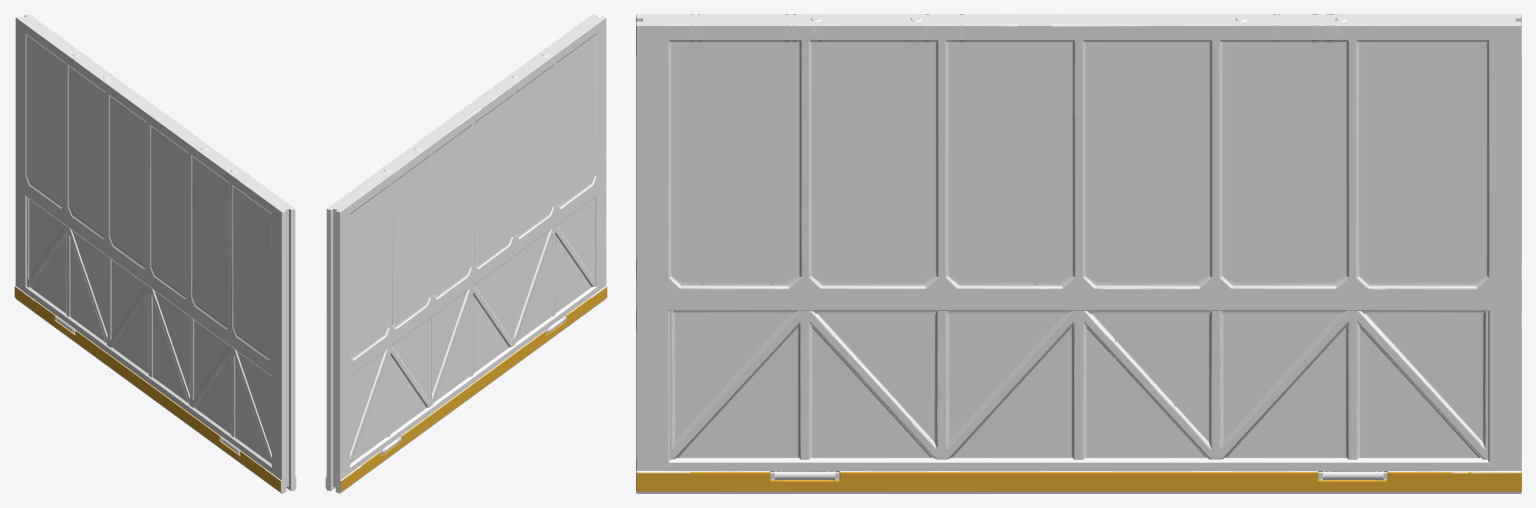
3 renders of one model, left to right at view 1: azimuth 30°, elevation 25°; view 2: azimuth 150°, elevation 25°; view 3: azimuth 270°, elevation 25°, orthographic. The views are drawn at different scales.
Visible parts, largest first — view 1: SM_H_Customiz_SlidingDoor_01C; view 2: SM_H_Customiz_SlidingDoor_01C; view 3: SM_H_Customiz_SlidingDoor_01C.
Boxes of the visible parts, bbox=[...] form: SM_H_Customiz_SlidingDoor_01C: bbox=[14, 14, 296, 493]; SM_H_Customiz_SlidingDoor_01C: bbox=[325, 14, 607, 493]; SM_H_Customiz_SlidingDoor_01C: bbox=[636, 14, 1521, 493].
Bounding box in the file's own units: 352 × 13.08 × 206.
